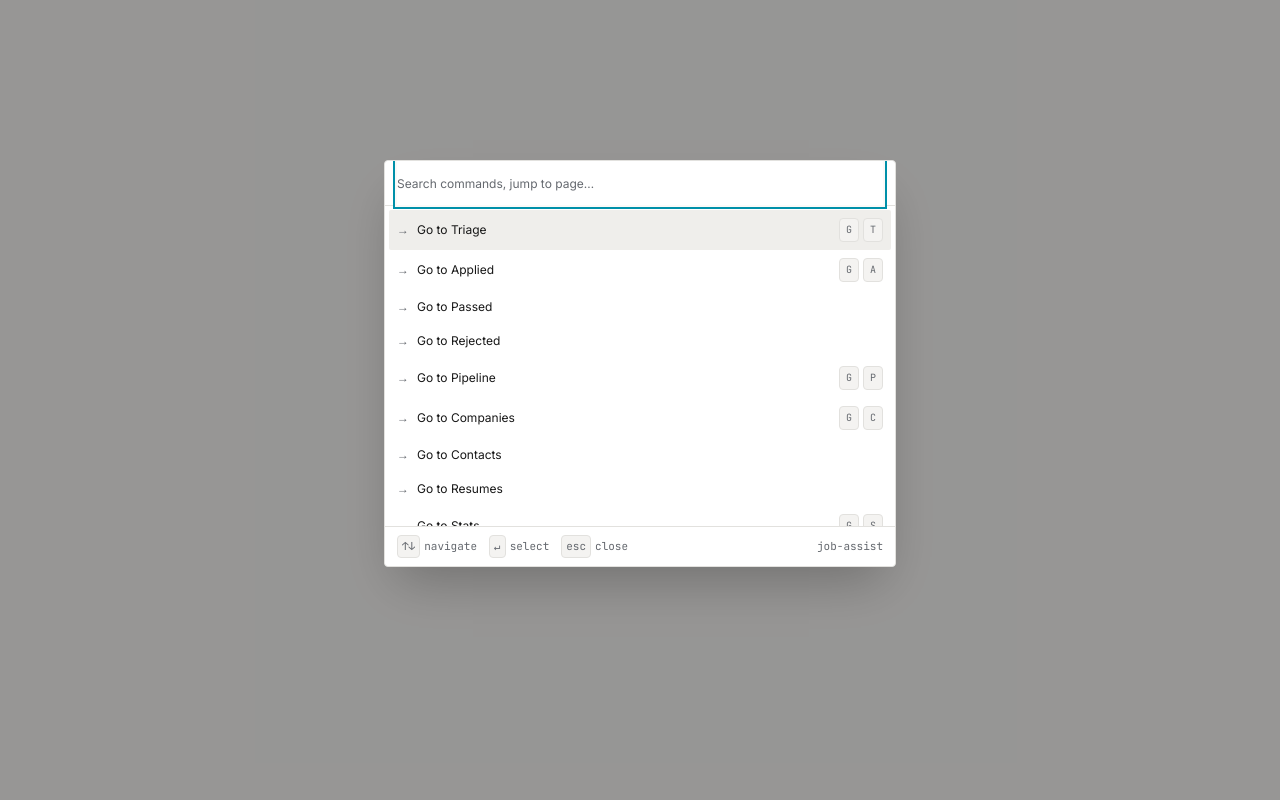
Test: CommandPalette › renders 'No matches' on gibberish search
Type "zzzzzzz" into the dropdown with placeholder "Search commands, jump to page…".
click(640, 183); type("zzzzzzz")  # box top-left (397, 161), bottom-right (883, 205)
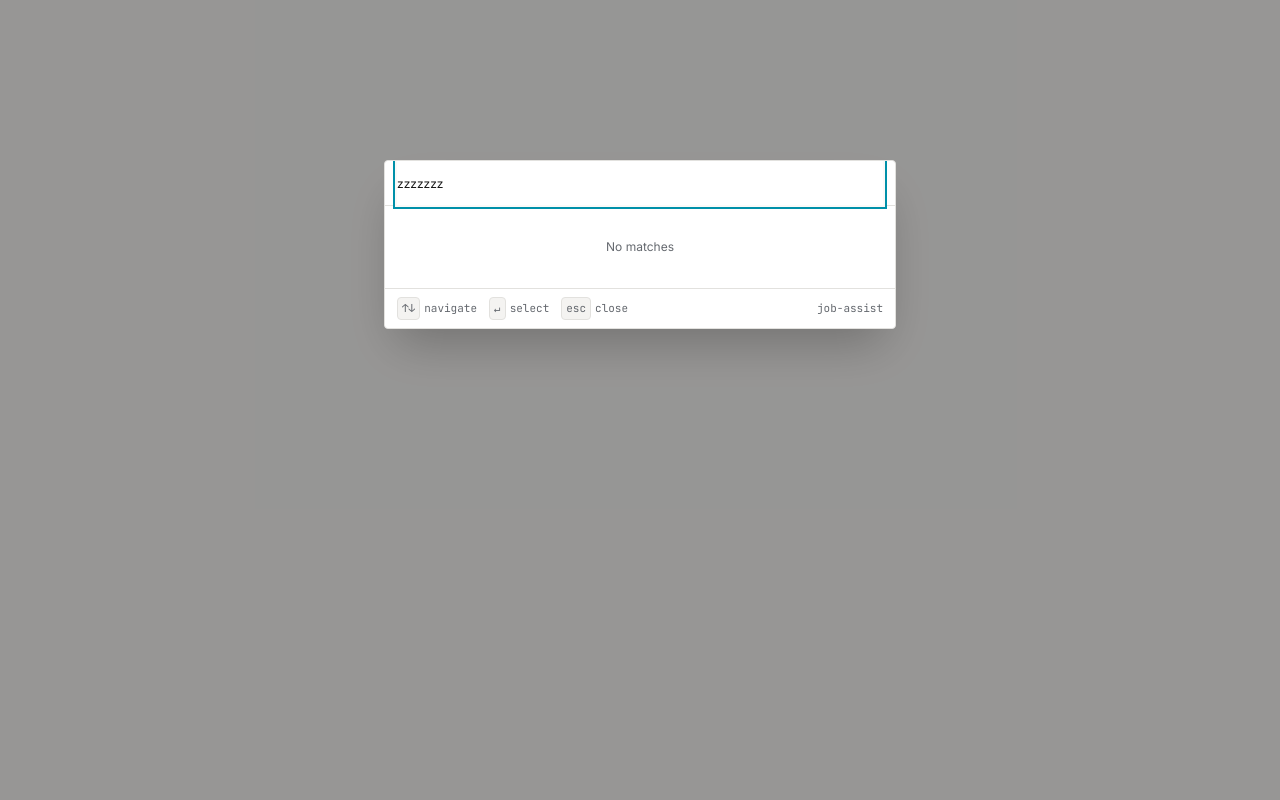
Now the text "No matches" is shown, box top-left (606, 239), bottom-right (674, 254)
